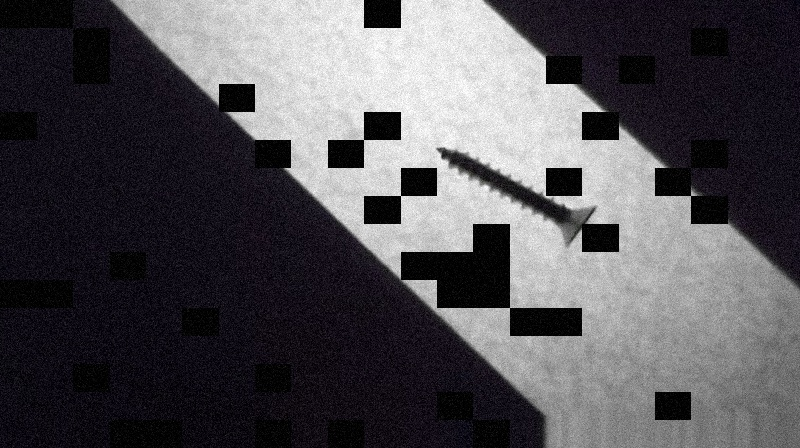S001: (432, 143, 603, 250)
